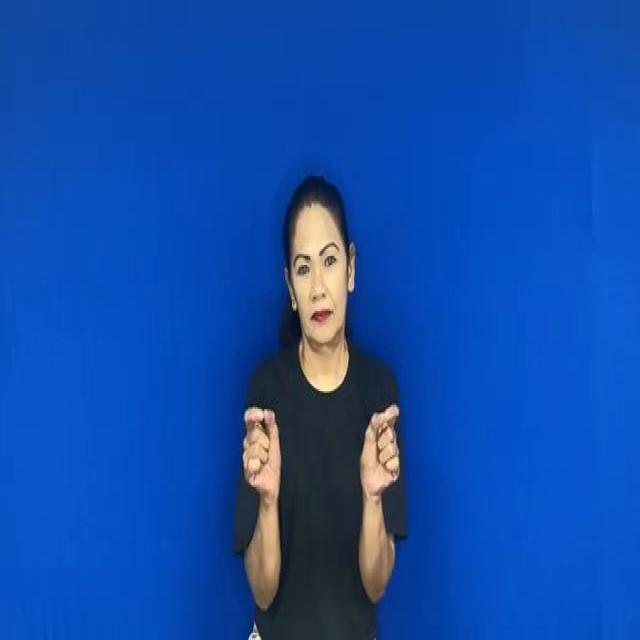crab: (231, 395, 416, 505)
